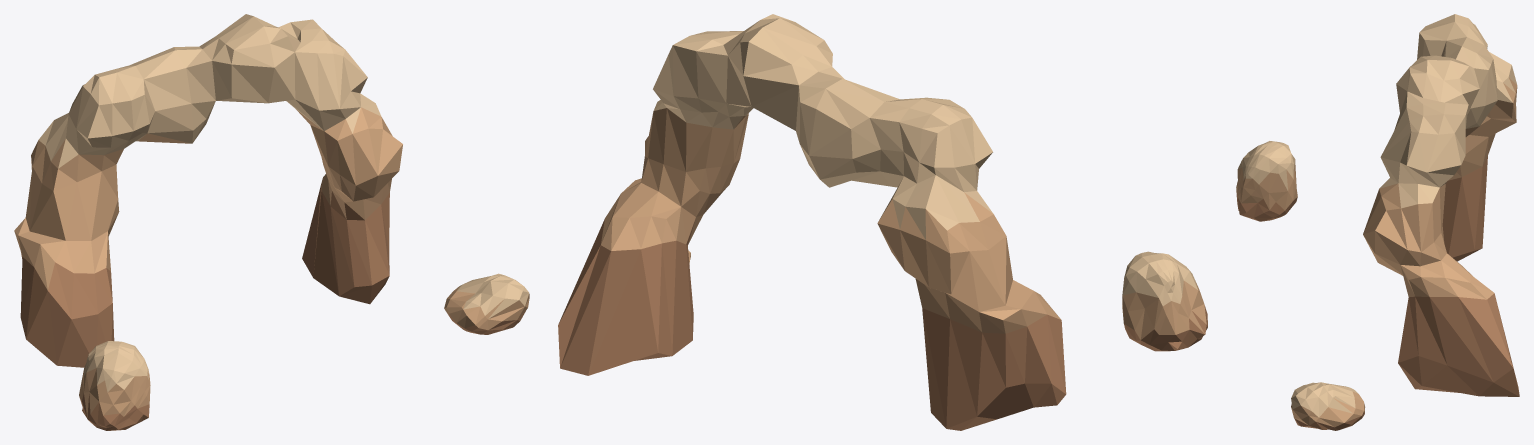
Rendered from canyon-0-2.glb.
3 views of the same model, side by side, from view 1: azimuth 30°, elevation 25°; view 2: azimuth 150°, elevation 25°; view 3: azimuth 270°, elevation 25° (orthographic). The views are drawn at different scales.
Visible parts, largest first — view 1: canyon-0-2; view 2: canyon-0-2; view 3: canyon-0-2.
Part boxes in pixels (bbox=[...]): canyon-0-2: bbox=[14, 14, 529, 430]; canyon-0-2: bbox=[558, 14, 1207, 430]; canyon-0-2: bbox=[1236, 14, 1519, 430].
Size of the model in its own units: 51.11 by 31.48 by 28.11.
